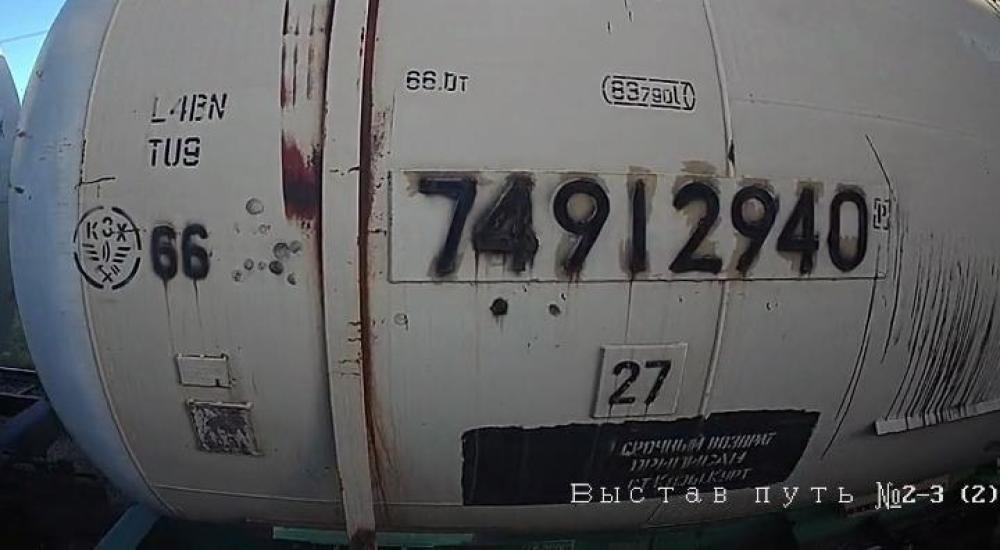Wagon-number: (402, 172, 872, 282)
